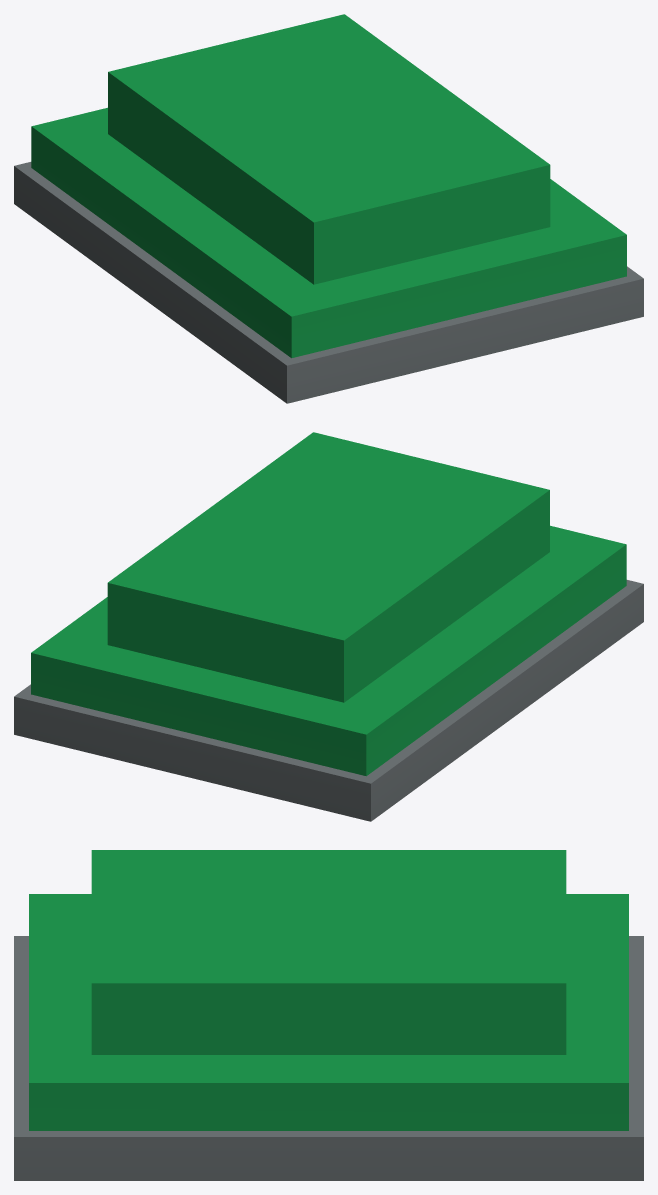
The model's file is plants.fbx.
3 views of the same model, one above another, from view 1: azimuth 30°, elevation 25°; view 2: azimuth 150°, elevation 25°; view 3: azimuth 270°, elevation 25° (orthographic). The views are drawn at different scales.
Visible parts, largest first — view 1: plants; view 2: plants; view 3: plants.
Part boxes in pixels (x1,y1,x2,y2): plants: (14,14,643,403); plants: (14,432,643,821); plants: (14,850,643,1180).
Bounding box in the file's own units: 348 × 132 × 462.
Materials: 1 (1 with a texture image).
